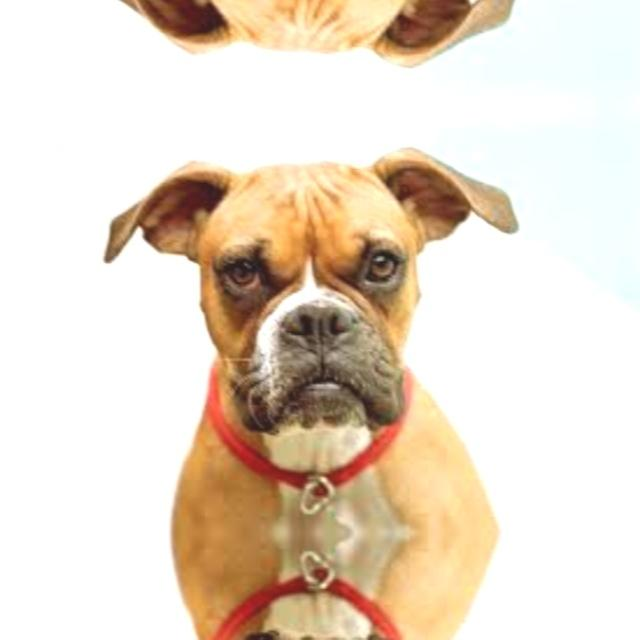dog: (107, 134, 551, 534), (107, 532, 551, 640), (107, 0, 551, 79)
